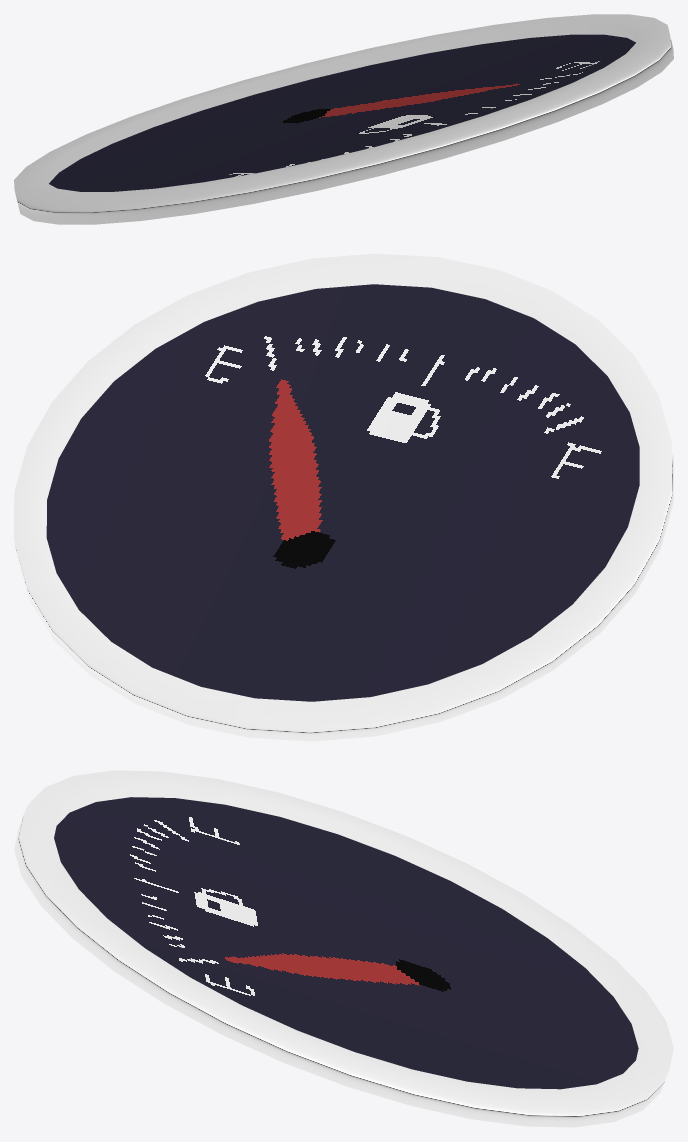
File: emptysign.glb
3 views of the same model, one above another, from view 1: azimuth 30°, elevation 25°; view 2: azimuth 150°, elevation 25°; view 3: azimuth 270°, elevation 25° (orthographic). The views are drawn at different scales.
Visible parts, largest first — view 1: SPD.R; view 2: SPD.R; view 3: SPD.R.
Part boxes in pixels (box(x1,y1,x2,y2)): SPD.R: box(14, 14, 673, 224); SPD.R: box(14, 253, 673, 741); SPD.R: box(14, 770, 673, 1127).
Size of the model in its own units: 0.1326 by 0.0516 by 0.1259.
Materials: 1 (1 with a texture image).
